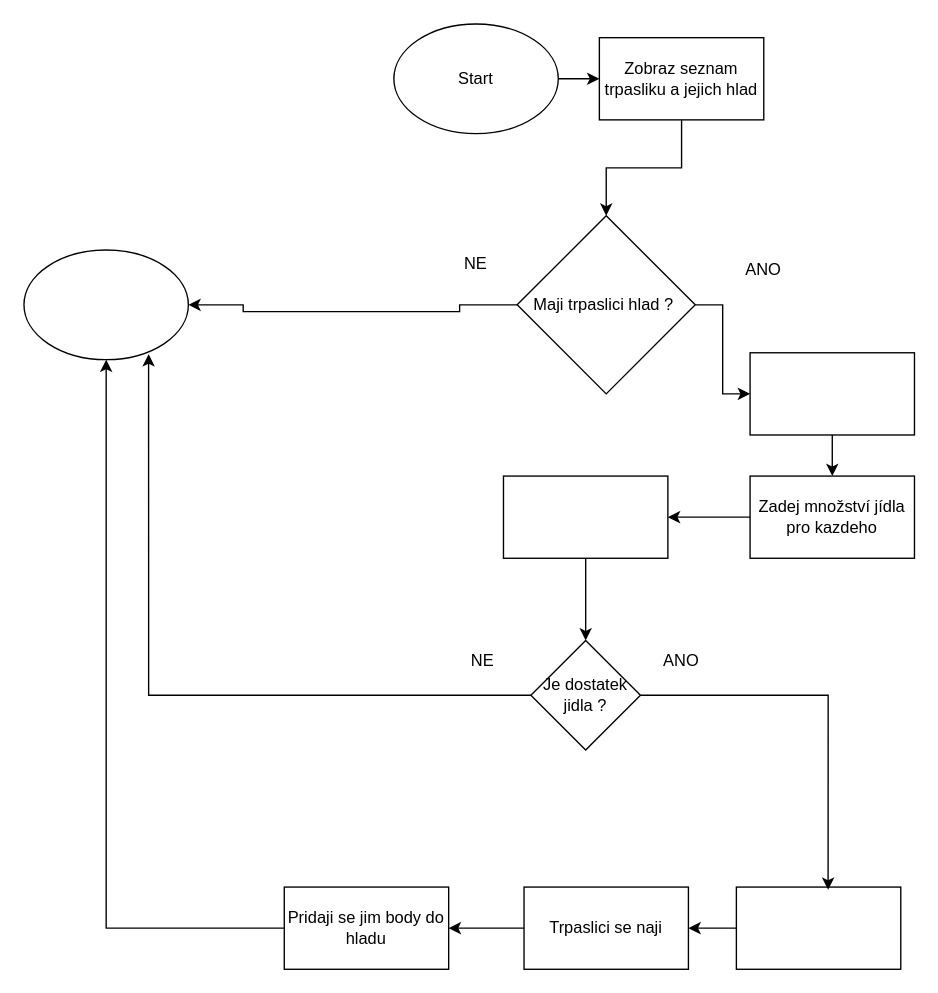
This 938x993 diagram has some shape labels left out. Here are the shapes that lost their labels. From the top down, the centre of each, then its label:
At (105,304): "KONEC".
At (831,393): "Označ trpasliky kteri budou jist".
At (585,516): "Klikni na potvrzeni".
At (818,927): "Odebere se jidlo ze zasob".
